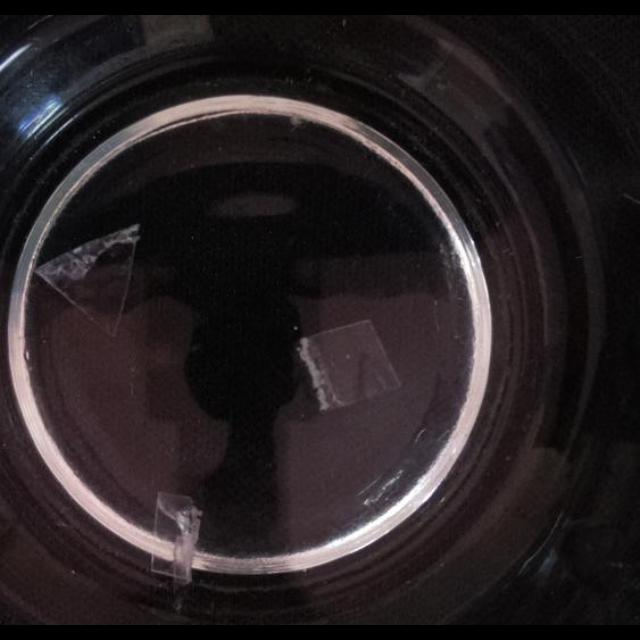Film: (32, 223, 142, 339), (294, 319, 404, 415), (148, 485, 204, 581)
